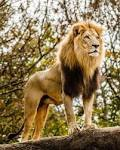lion: (18, 22, 105, 138)
